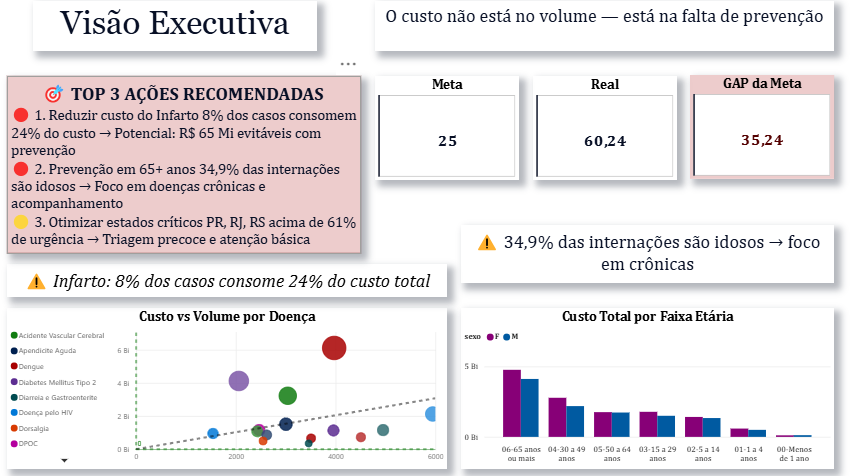

Layout of this report page (visuals, bound fields, positions):
{"tool":"powerbi","page":{"name":"Visão Executiva","canvas":[1280,720],"ordinal":4},"visuals":[{"type":"textbox","box":[55.6,11.7,415.6,73.2],"z":0},{"type":"textbox","box":[556.1,11.7,671.7,73.2],"z":1000},{"type":"scatterChart","title":"Custo vs Volume por Doença","fields":{"Series":["mart_top_doencas.desc_cid"],"Size":["Sum(mart_top_doencas.custo_total)"],"X":["Sum(mart_top_doencas.total_casos)"],"Y":["Sum(mart_top_doencas.custo_total)"]},"box":[17.6,461,643.9,235.6],"z":2000},{"type":"textbox","box":[17.6,396.6,643.9,48.3],"z":3000},{"type":"clusteredColumnChart","title":"Custo Total por Faixa Etária","fields":{"Category":["mart_perfil_demografico.faixa_etaria"],"Series":["mart_perfil_demografico.sexo"],"Y":["Sum(mart_perfil_demografico.custo_total)"]},"box":[682,461,545.9,235.6],"z":4000},{"type":"textbox","box":[682,339.5,545.9,84.9],"z":5000},{"type":"cardVisual","title":"Meta","fields":{"Data":["mart_analise_uf.Meta Urgência"]},"box":[556.1,121.5,210.7,152.2],"z":6000},{"type":"cardVisual","title":"Real","fields":{"Data":["mart_analise_uf.Real Urgência"]},"box":[787.3,121.5,210.7,152.2],"z":7000},{"type":"cardVisual","title":"GAP","fields":{"Data":["mart_analise_uf.Gap Urgência"]},"box":[1017.1,120,210.7,152.2],"z":8000},{"type":"textbox","box":[17.6,121.5,518,260.5],"z":9000}]}

Visuals, with their boxes in screenshot pixels (x1, y1, x2, y2), scaled from the page's 1280x720 canvas onto the 859x476 screenshot:
textbox: (left=37, top=8, right=316, bottom=56)
textbox: (left=373, top=8, right=824, bottom=56)
"Custo vs Volume por Doença" scatterChart: (left=12, top=305, right=444, bottom=461)
textbox: (left=12, top=262, right=444, bottom=294)
"Custo Total por Faixa Etária" clusteredColumnChart: (left=458, top=305, right=824, bottom=461)
textbox: (left=458, top=224, right=824, bottom=281)
"Meta" cardVisual: (left=373, top=80, right=515, bottom=181)
"Real" cardVisual: (left=528, top=80, right=670, bottom=181)
"GAP" cardVisual: (left=683, top=79, right=824, bottom=180)
textbox: (left=12, top=80, right=359, bottom=253)
